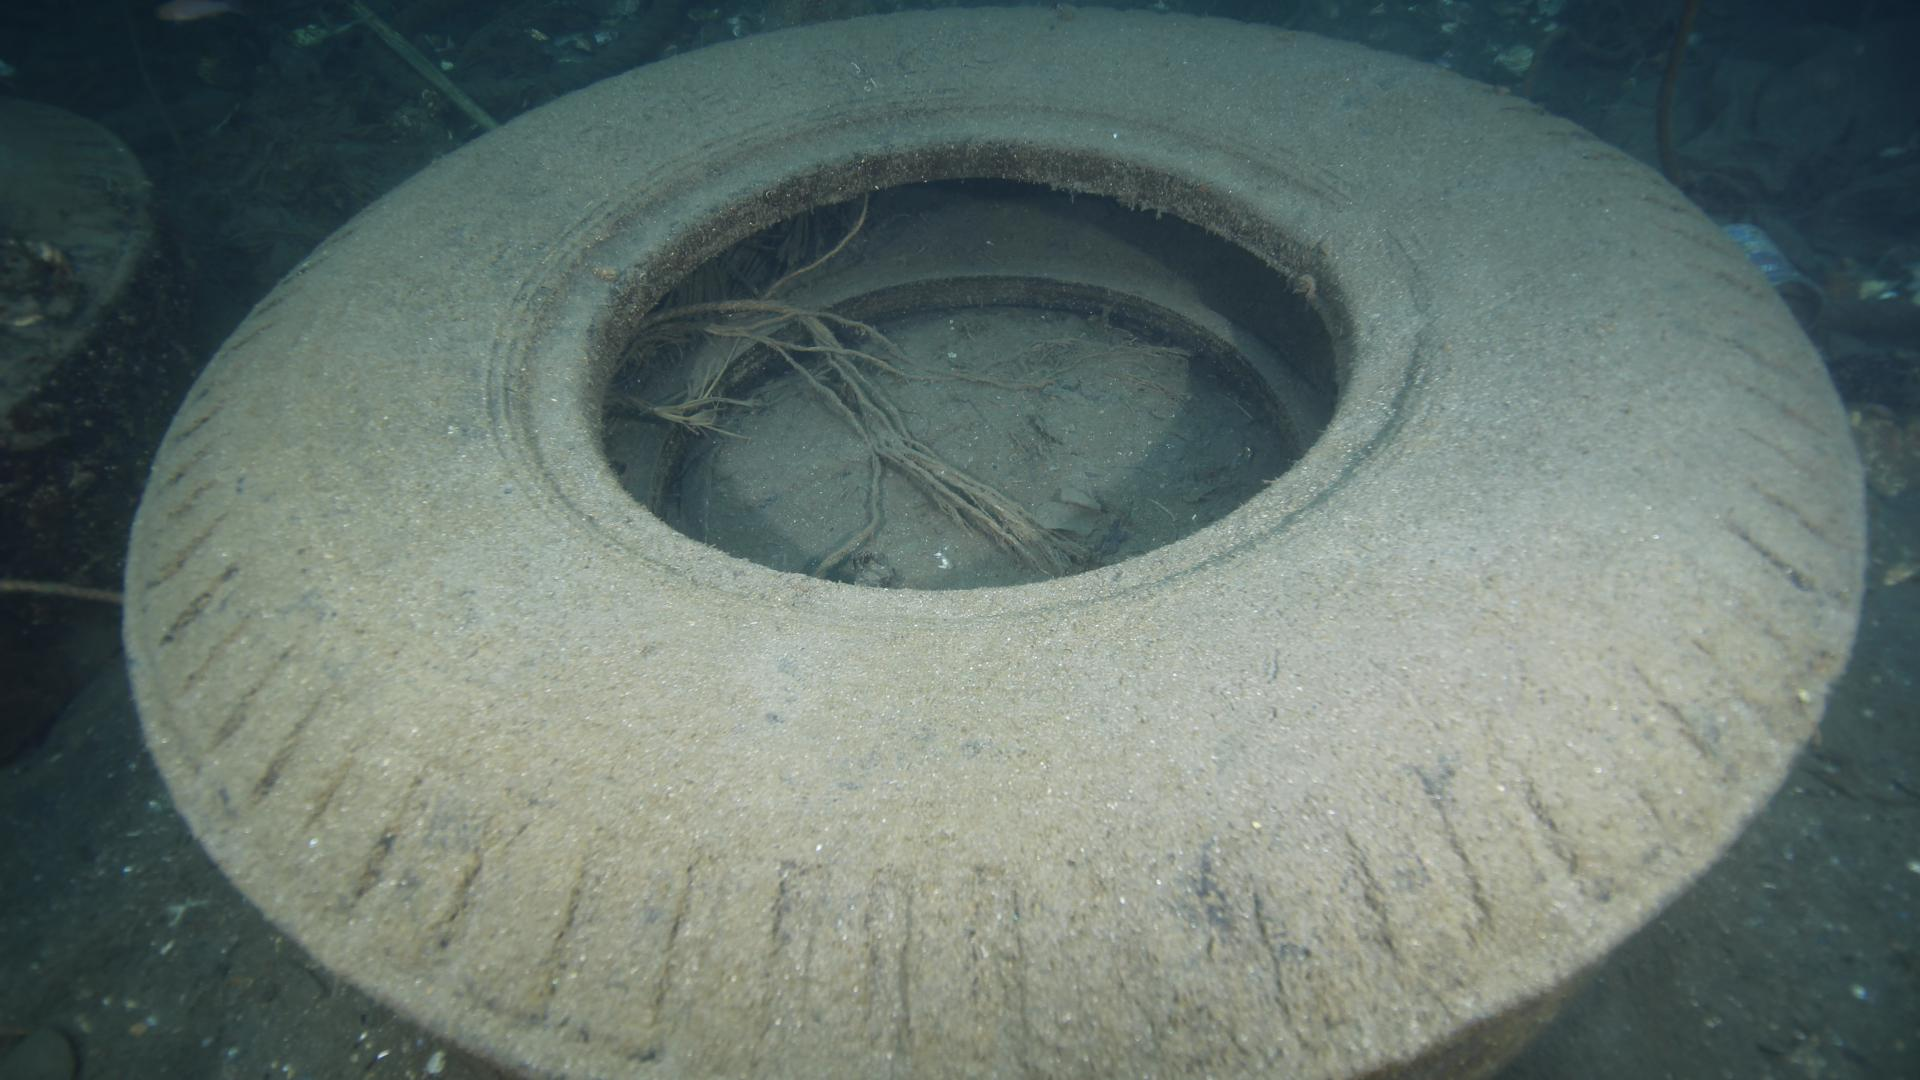tire: (123, 5, 1869, 1080)
